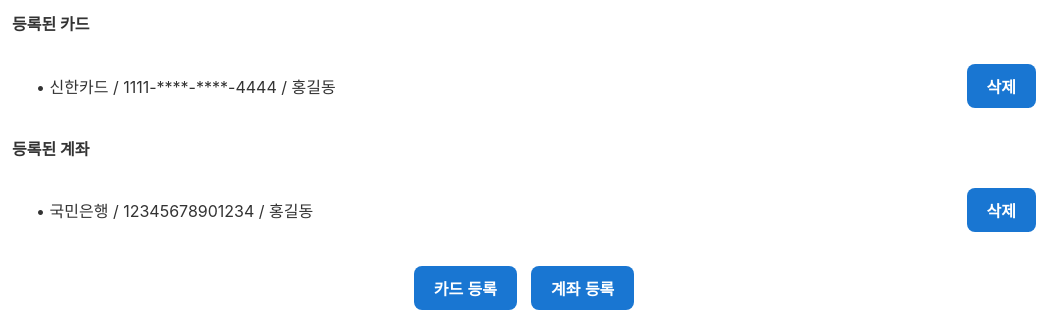
Test: 카드/계좌 삭제 버튼 클릭 시 리스트에서 항목이 사라진다
Expected: the list item "• 신한카드 / 1111-****-****-4444 / 홍길동 삭제" is shown, [36,56,1036,114]
Expected: the list item "• 국민은행 / 12345678901234 / 홍길동 삭제" is shown, [36,181,1036,239]
Click the button "삭제" in the row of "신한카드". click: [1001, 86]
box: [966,64,1036,108]
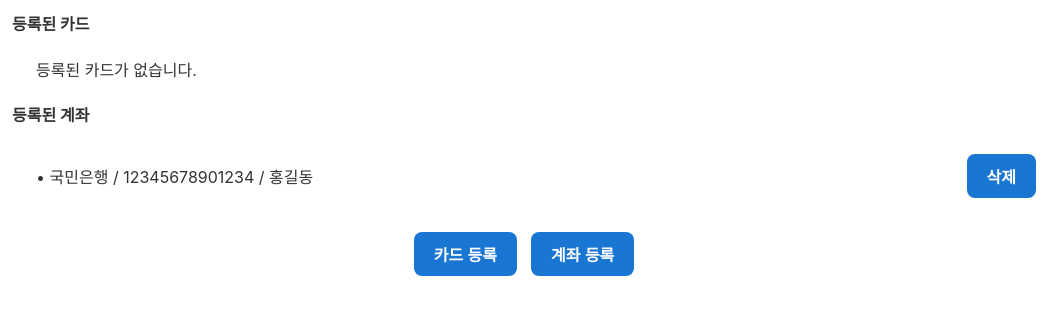
Expected: the list item "신한카드" is gone
